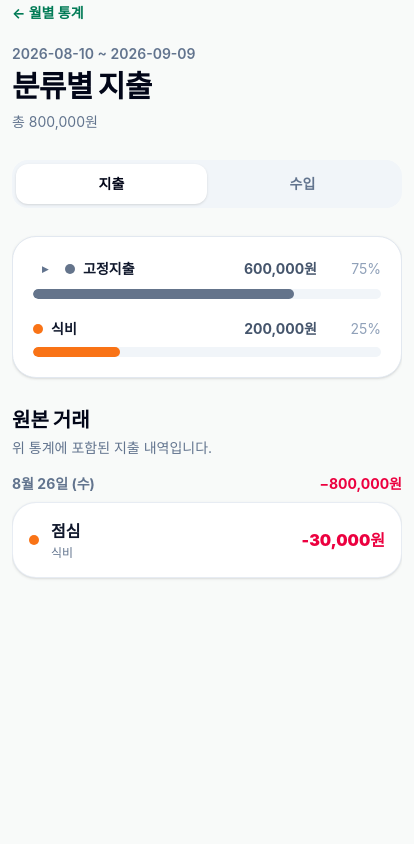
Test: StatisticsDetailScreen › keeps all group categories selected while fetching later transaction pages
Step 1. Click the button "고정지출 600,000원 75%" → (109, 268), box [65,259,381,279]
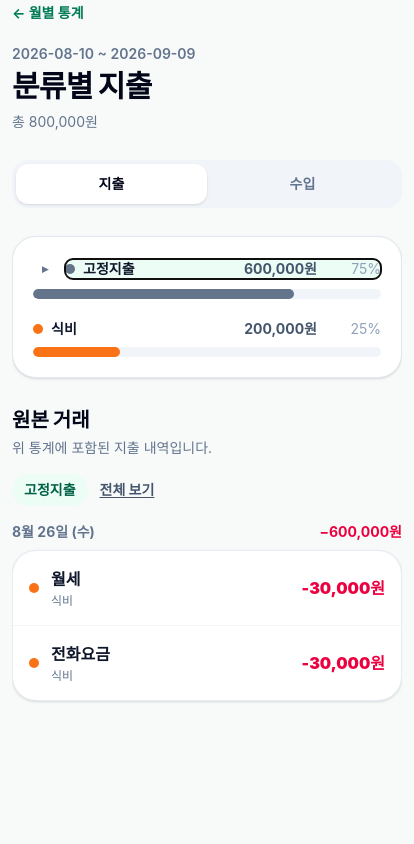
Check: the text "월세" is shown, box [51,569,80,589]
Check: the element with test id "daily-balance-2026-08-26" shows "−600,000원", box [12,522,402,542]
Check: the text "전화요금" is shown, box [51,644,110,664]
